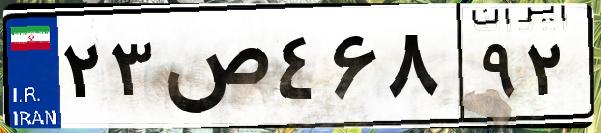2: (57, 26, 110, 100), (525, 38, 570, 115)
3: (110, 28, 158, 98)
4: (270, 28, 330, 110)
6: (330, 28, 385, 110)
8: (385, 28, 445, 110)
9: (475, 38, 525, 113)
ص: (158, 20, 270, 120)
